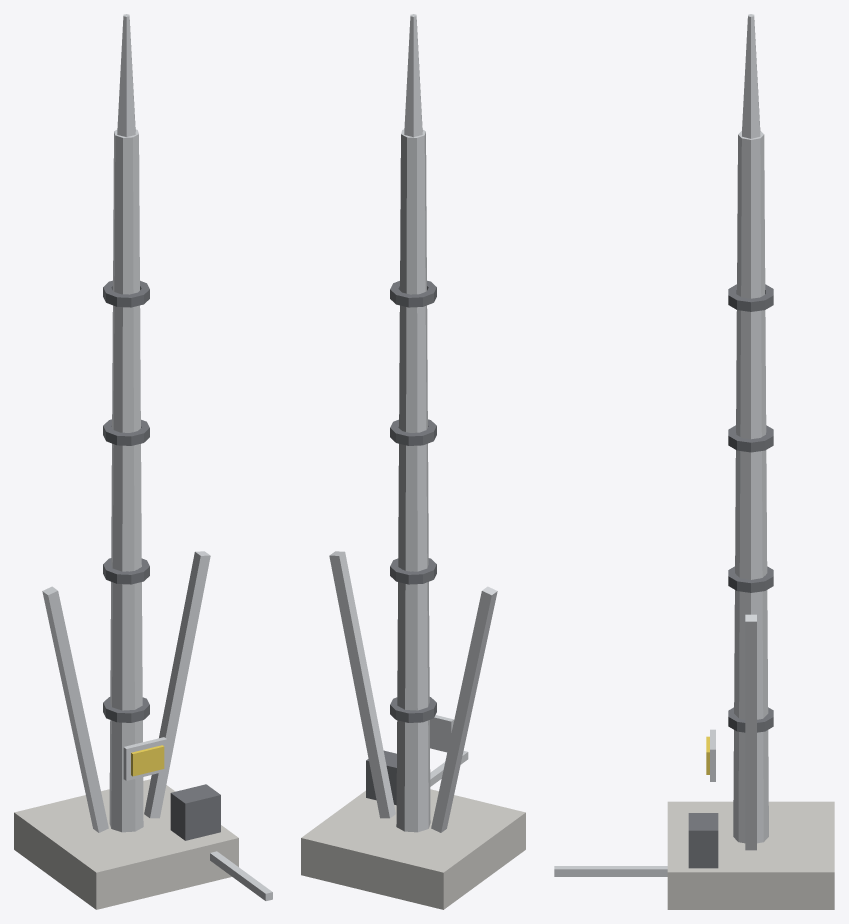
File: rocket-launch-pad-and-gantry-lightning-arrestor-980eb349__38200.glb
3 renders of one model, left to right at view 1: azimuth 30°, elevation 25°; view 2: azimuth 150°, elevation 25°; view 3: azimuth 270°, elevation 25°, orthographic.
Parts seen in each view (by area): view 1: lightning-arrestor; view 2: lightning-arrestor; view 3: lightning-arrestor.
Part boxes in pixels (left/top/right/bottom): lightning-arrestor: left=14, top=14, right=272, bottom=909; lightning-arrestor: left=301, top=14, right=525, bottom=909; lightning-arrestor: left=554, top=14, right=834, bottom=909.
Size of the model in its own units: 1.6 by 7.95 by 2.35.
